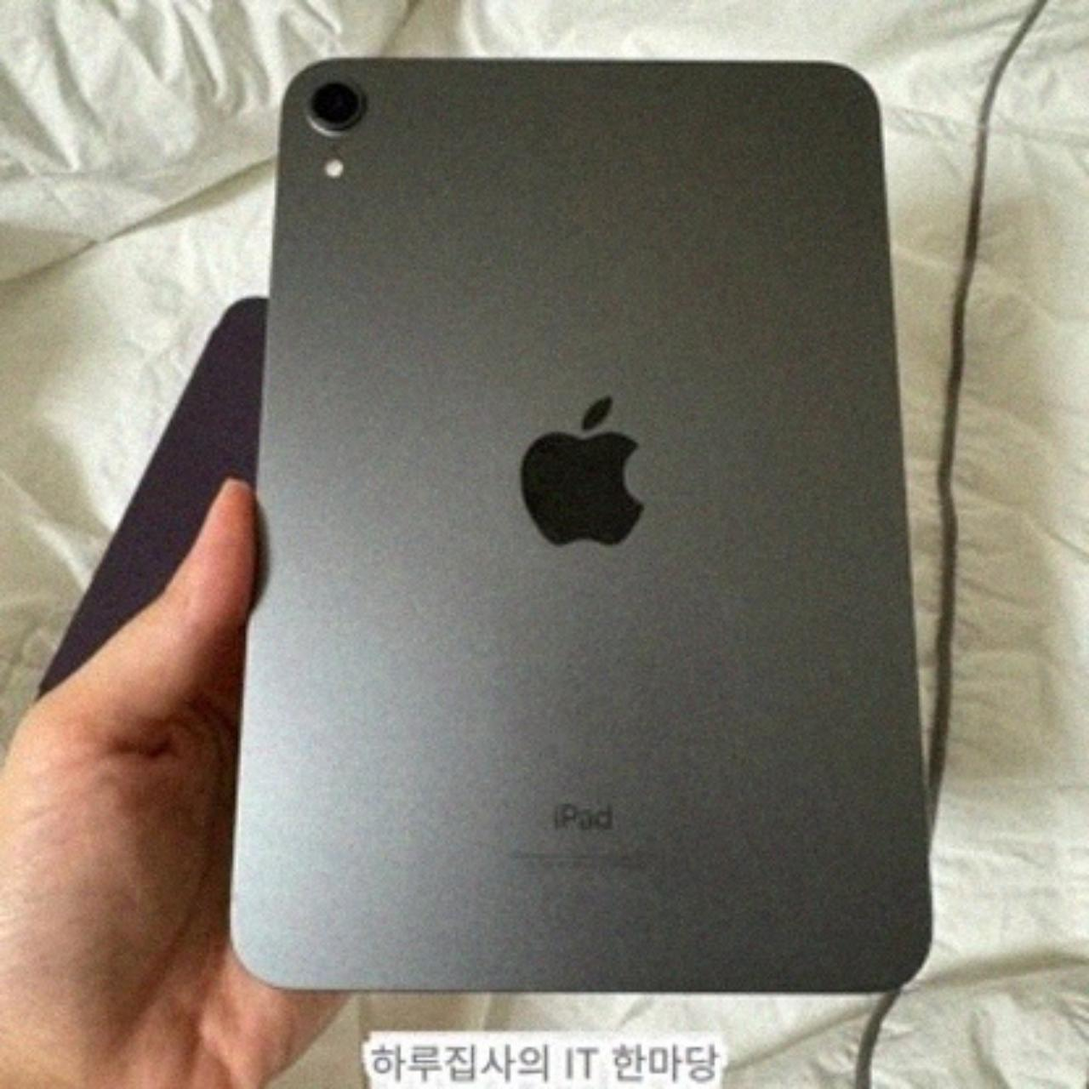Tablet_PC: (204, 48, 953, 1011)
